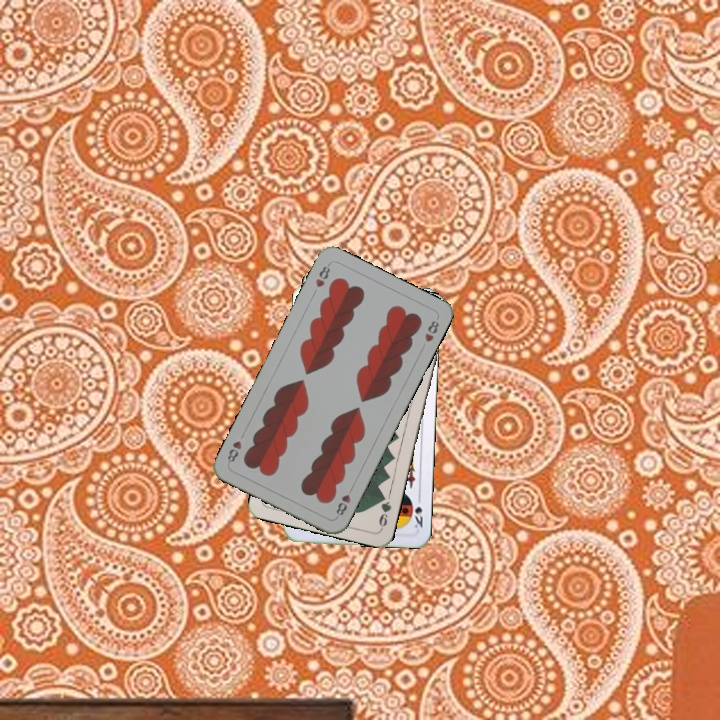G9: (375, 490, 394, 532)
H8: (311, 260, 333, 290), (332, 490, 353, 518)
SK: (407, 491, 425, 530)
